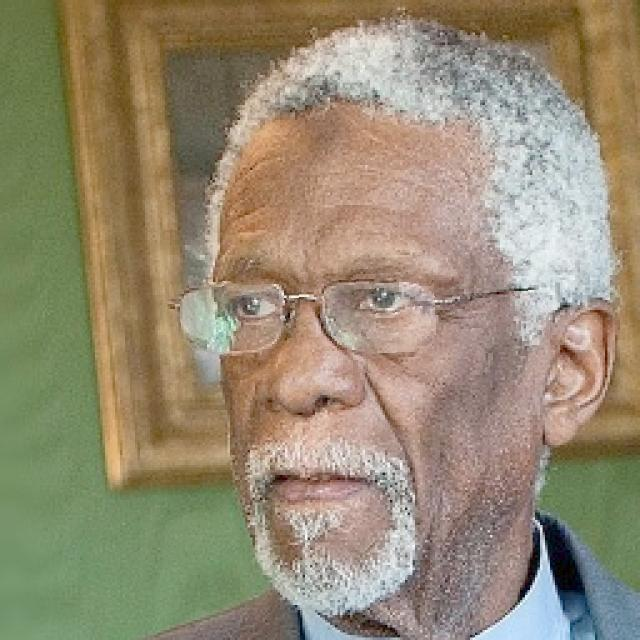glasses: (165, 255, 550, 379)
